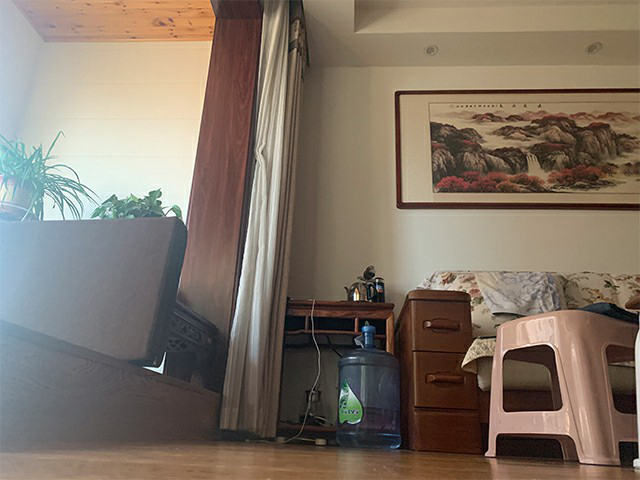curtain: (219, 1, 309, 441)
sofa: (394, 269, 640, 455)
stool: (485, 309, 640, 468)
table: (277, 296, 397, 437)
wire: (247, 300, 339, 447)
